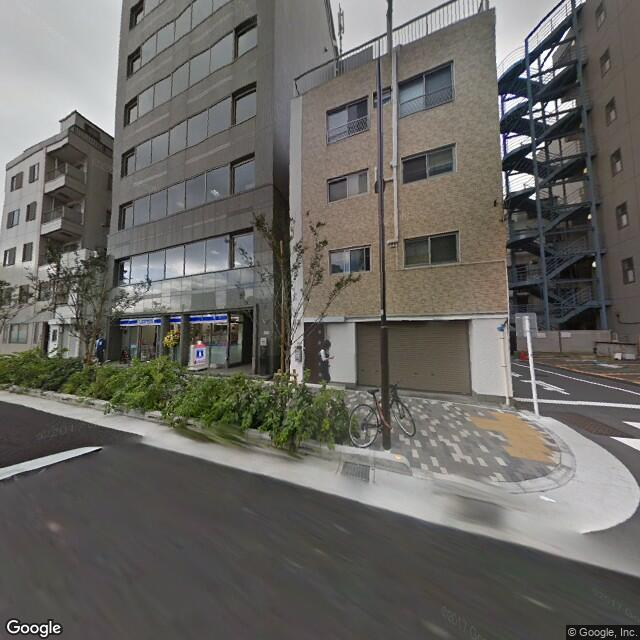lawson: (114, 307, 233, 328), (192, 344, 207, 369)
